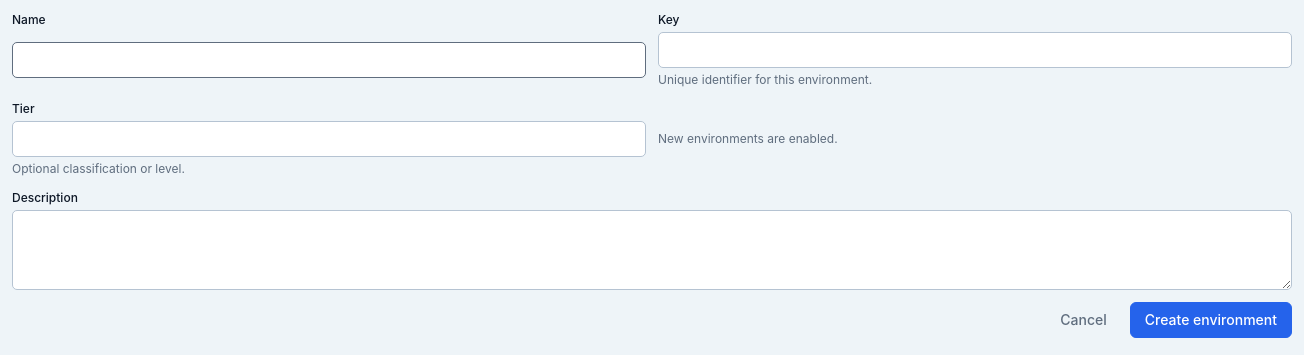
Test case: Environments management › maps concurrent server key collisions to a field error
This screenshot has width=1304, height=355.
Type "Production" into the field labelled "Name" at (329, 60), box [12,42,646,78]
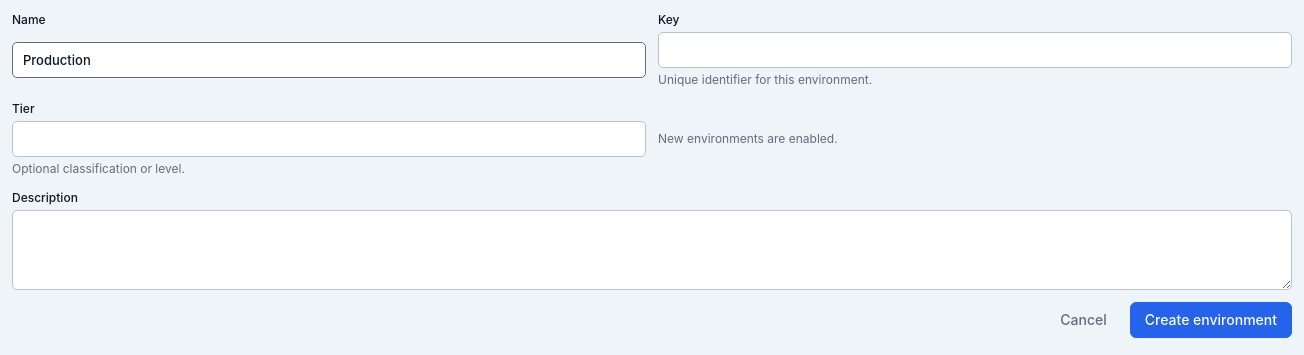
Type "prod" into the field labelled "Key" at (975, 50), box [658,32,1292,68]
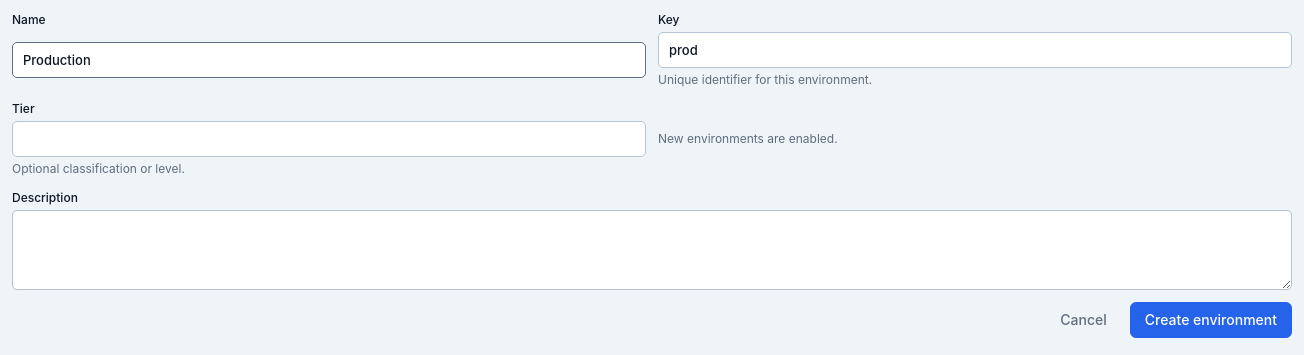
Click the button "Create environment" at (1211, 320), box [1130,302,1292,338]
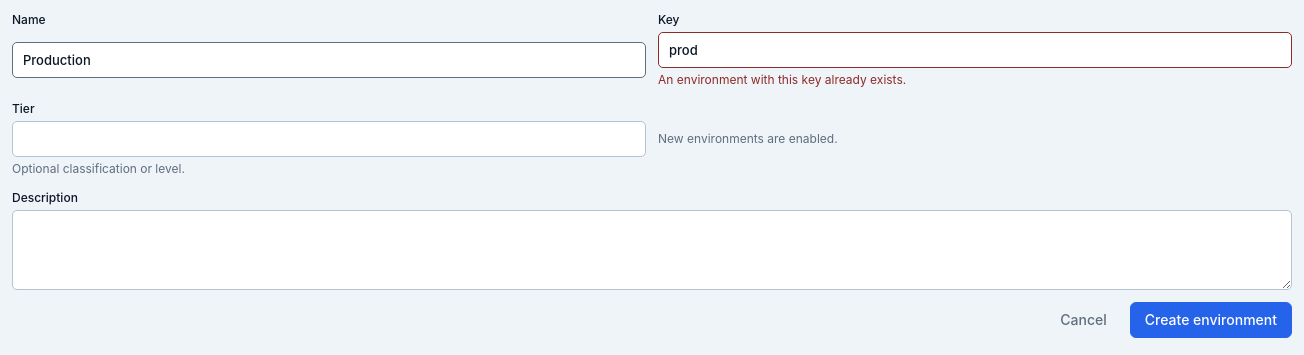
Now the text "An environment with this key already exists." is shown, box [658,72,906,87]
